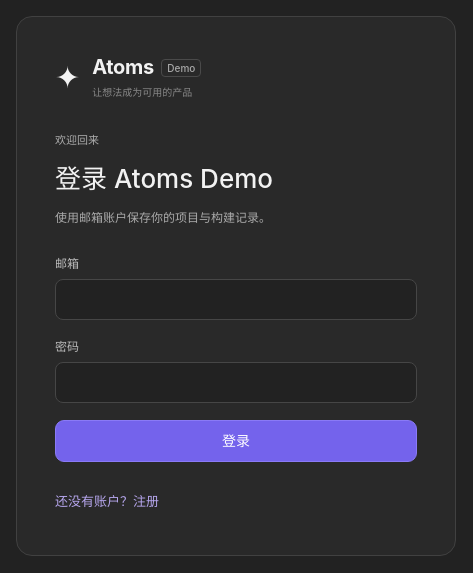
Scenario: AuthPage › switches between login and registration
Expected: the button "登录" is shown, [55, 420, 417, 462]
Click the button "还没有账户？注册".
click(107, 501)  # box [55, 484, 159, 517]
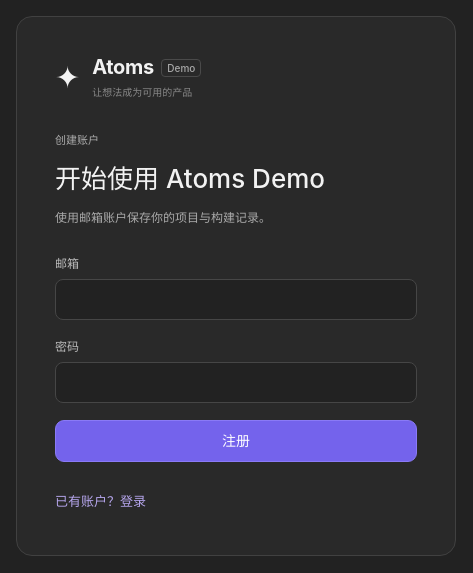
Now the button "注册" is shown, box [55, 420, 417, 462]
